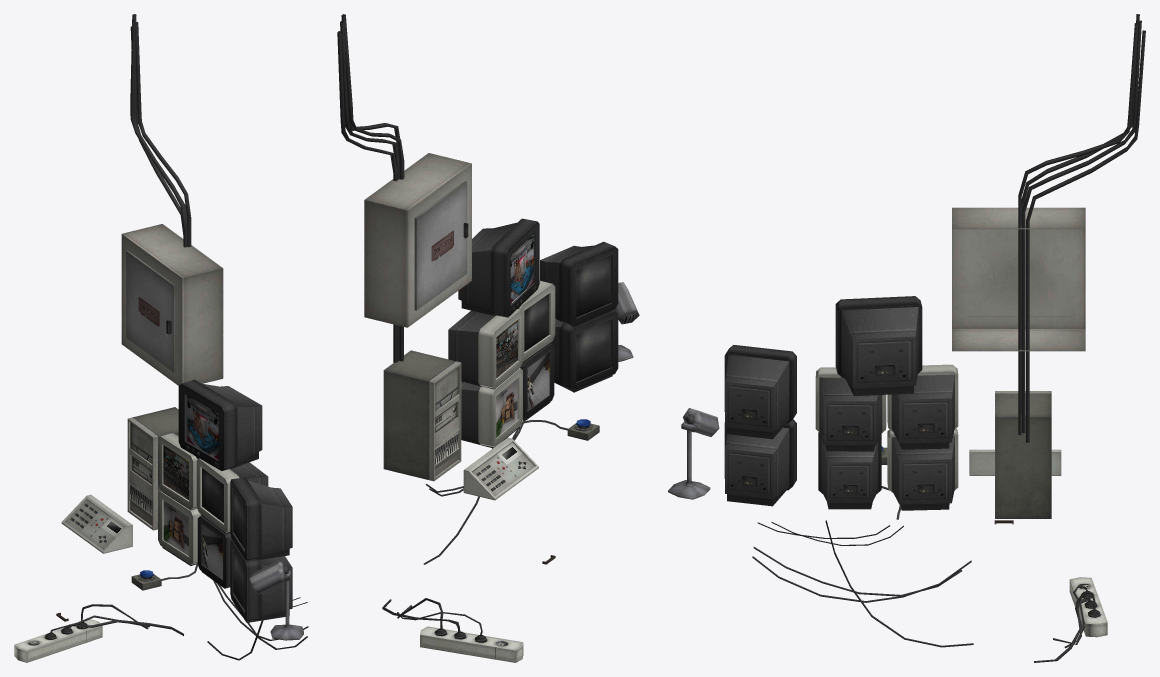
The model's file is ScreenSystem.fbx.
The picture shows the model from 3 angles, left to right: view 1: azimuth 30°, elevation 25°; view 2: azimuth 150°, elevation 25°; view 3: azimuth 270°, elevation 25°; orthographic projection. The views are drawn at different scales.
Visible parts, largest first — view 1: ScreenSystem; view 2: ScreenSystem; view 3: ScreenSystem.
Part boxes in pixels (<box>): ScreenSystem: <box>14,14,308,662</box>; ScreenSystem: <box>337,14,639,662</box>; ScreenSystem: <box>668,14,1145,662</box>.
Bounding box in the file's own units: 1.55 × 6 × 3.98.
